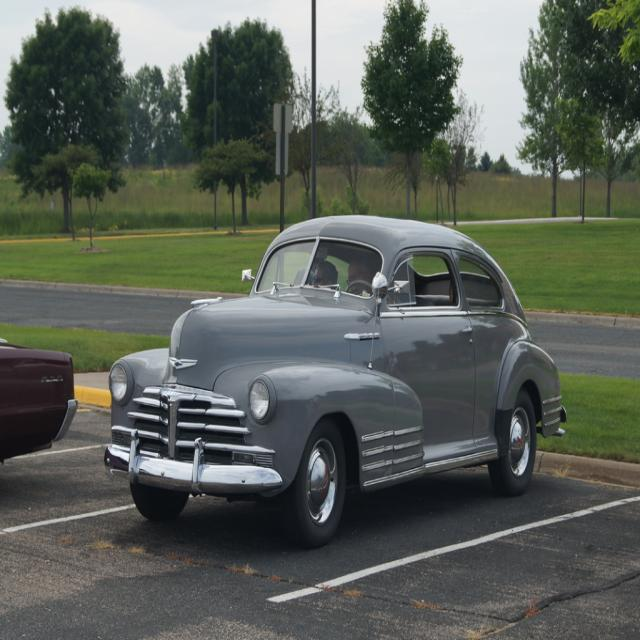car: (100, 213, 560, 542)
